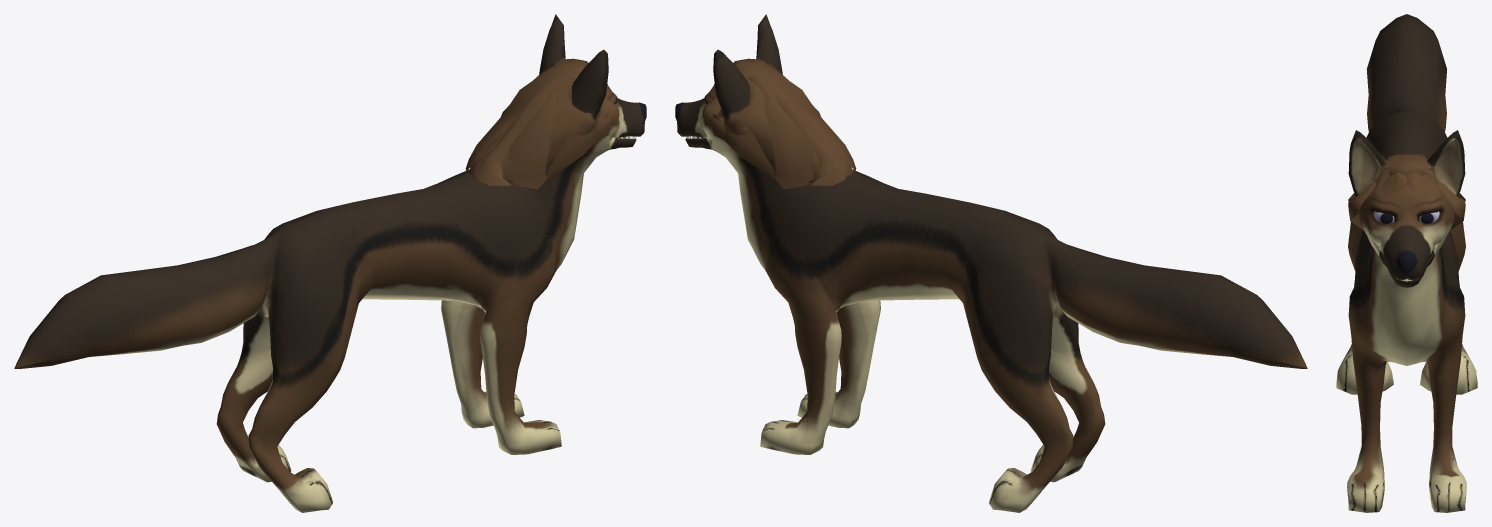
The model's file is vlk_sedy.glb.
3 renders of one model, left to right at view 1: azimuth 30°, elevation 25°; view 2: azimuth 150°, elevation 25°; view 3: azimuth 270°, elevation 25°, orthographic. The views are drawn at different scales.
Size of the model in its own units: 1.46 by 0.85 by 0.2688.
Materials: 1 (1 with a texture image).
